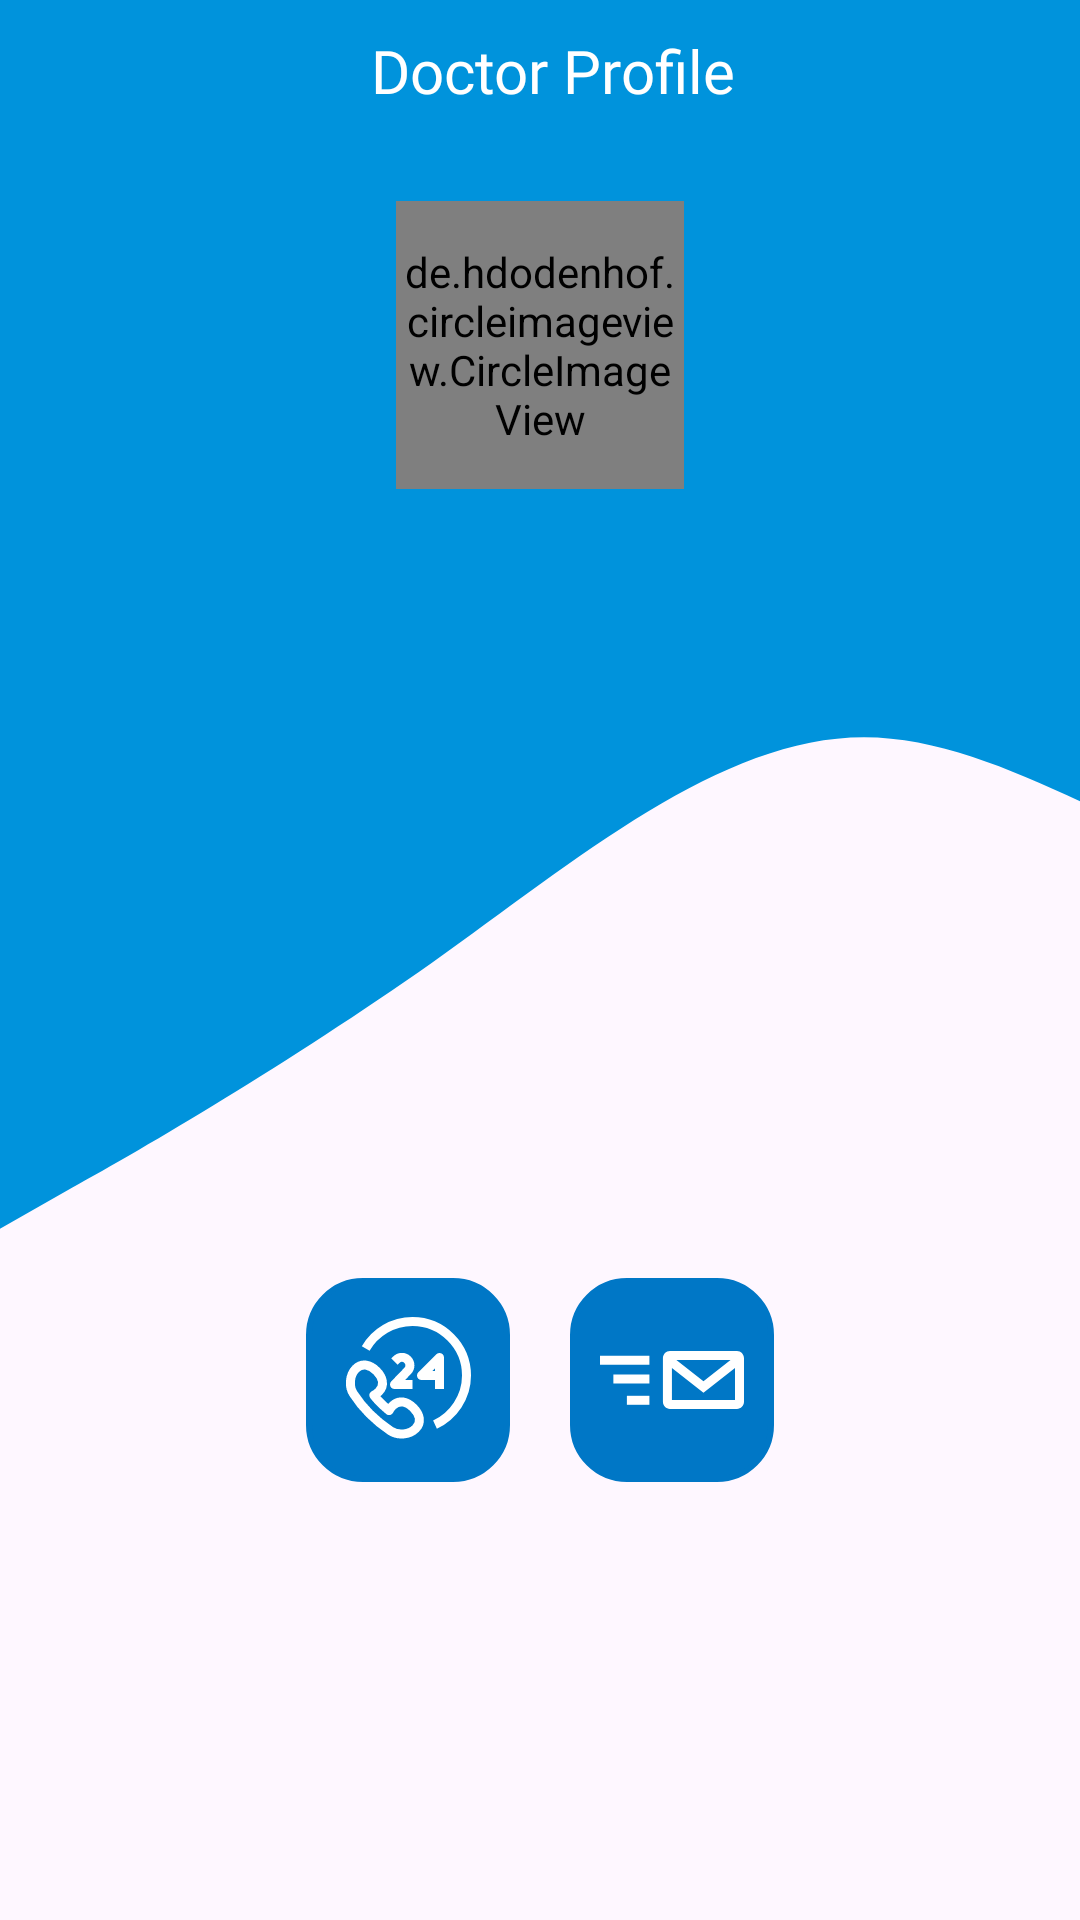

Screen size 1080px×1920px. Icon name, then its box in pixels as (x1, y1, x2, y2):
phone call: (306, 1278, 510, 1482)
send email: (570, 1278, 774, 1482)
